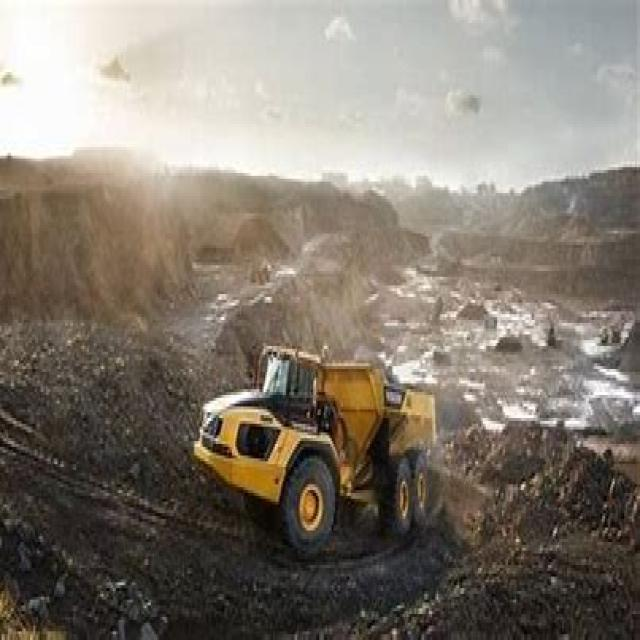dump_truck: (187, 326, 448, 548)
